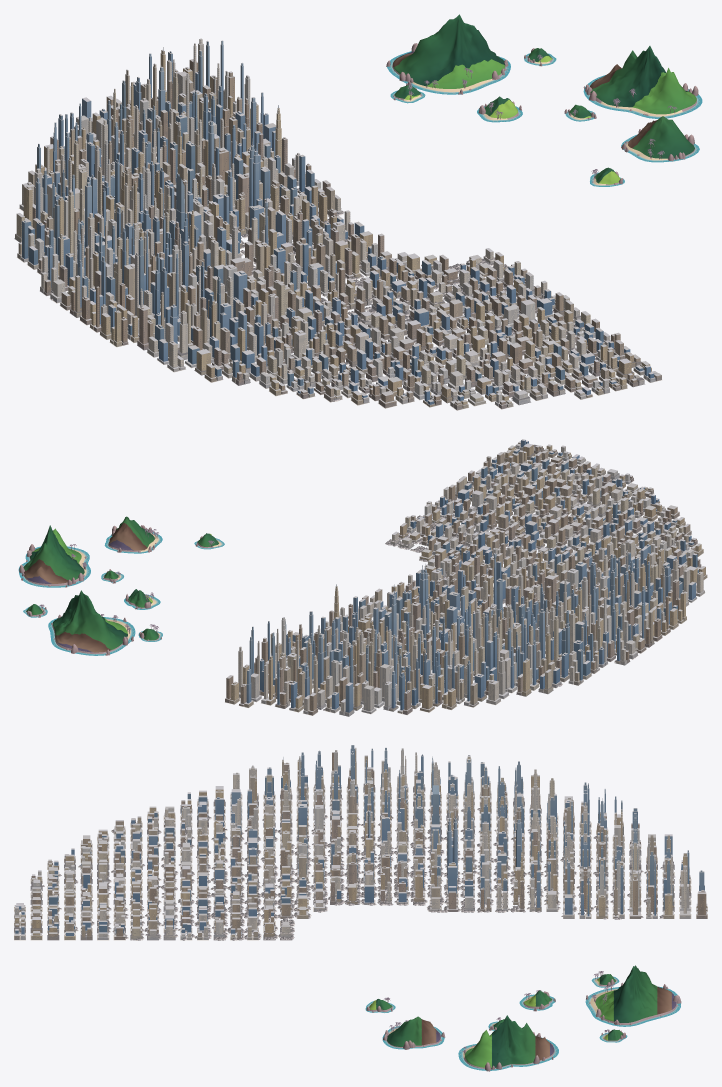
The model's file is Backdrop.fbx.
3 renders of one model, top to bottom at view 1: azimuth 30°, elevation 25°; view 2: azimuth 150°, elevation 25°; view 3: azimuth 270°, elevation 25°, orthographic. The views are drawn at different scales.
Parts seen in each view (by area): view 1: Skyline_m2_0, Skyline_m2_m1, Skyline_m1_0, Skyline_m1_1, Skyline_m1_m1, Skyline_m1_m2, Islands_0, Islands_1, Skyline_m2_1, Skyline_m2_m2, Skyline_0_1, IslandShallows_0 (+2 smaller); view 2: Skyline_m2_m1, Skyline_m1_m2, Skyline_m1_0, Skyline_m1_1, Skyline_m2_0, Skyline_m1_m1, Skyline_m2_m2, Islands_0, Islands_1, Skyline_m2_1, Skyline_0_1, IslandShallows_0 (+2 smaller); view 3: Skyline_m1_0, Skyline_m1_m1, Skyline_m2_0, Skyline_m1_m2, Skyline_m2_m1, Skyline_m1_1, Islands_0, Islands_1, Skyline_m2_m2, Skyline_m2_1, Skyline_0_1, Skyline_0_0 (+2 smaller).
Part boxes in pixels (<box>): Skyline_m2_0: <box>79,236,352,385</box>; Skyline_m2_m1: <box>14,145,237,317</box>; Skyline_m1_0: <box>253,227,540,352</box>; Skyline_m1_1: <box>365,298,644,410</box>; Skyline_m1_m1: <box>151,105,364,275</box>; Skyline_m1_m2: <box>76,38,276,184</box>; Islands_0: <box>564,46,698,185</box>; Islands_1: <box>386,14,552,120</box>; Skyline_m2_1: <box>259,344,414,408</box>; Skyline_m2_m2: <box>19,103,130,218</box>; Skyline_0_1: <box>552,292,661,382</box>; IslandShallows_0: <box>565,75,702,186</box>; Skyline_m2_m1: <box>436,573,654,696</box>; Skyline_m1_m2: <box>225,611,423,716</box>; Skyline_m1_0: <box>398,498,601,603</box>; Skyline_m1_1: <box>458,443,660,539</box>; Skyline_m2_0: <box>523,535,707,641</box>; Skyline_m1_m1: <box>321,545,512,669</box>; Skyline_m2_m2: <box>383,626,509,715</box>; Islands_0: <box>19,516,221,587</box>; Islands_1: <box>26,589,161,655</box>; Skyline_m2_1: <box>611,503,703,561</box>; Skyline_0_1: <box>443,439,528,502</box>; IslandShallows_0: <box>18,530,224,587</box>; Skyline_m1_0: <box>178,825,361,933</box>; Skyline_m1_m1: <box>360,805,543,912</box>; Skyline_m2_0: <box>177,745,360,856</box>; Skyline_m1_m2: <box>543,798,707,919</box>; Skyline_m2_m1: <box>361,747,543,856</box>; Skyline_m1_1: <box>14,842,178,933</box>; Islands_0: <box>366,997,554,1071</box>; Islands_1: <box>523,965,681,1041</box>; Skyline_m2_m2: <box>544,778,641,855</box>; Skyline_m2_1: <box>80,806,175,855</box>; Skyline_0_1: <box>14,919,178,940</box>; Skyline_0_0: <box>180,921,294,940</box>.
Bounding box in the file's own units: 4466 × 548 × 4590.
3 materials, 3 textured.
